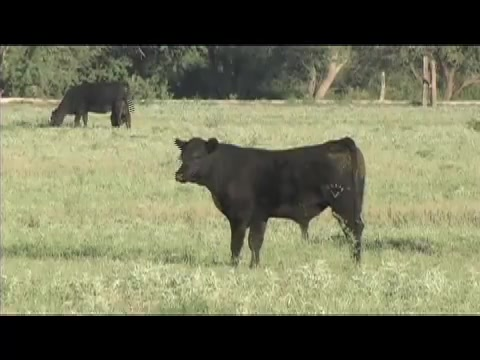cow: (175, 136, 367, 269), (50, 80, 133, 130)
